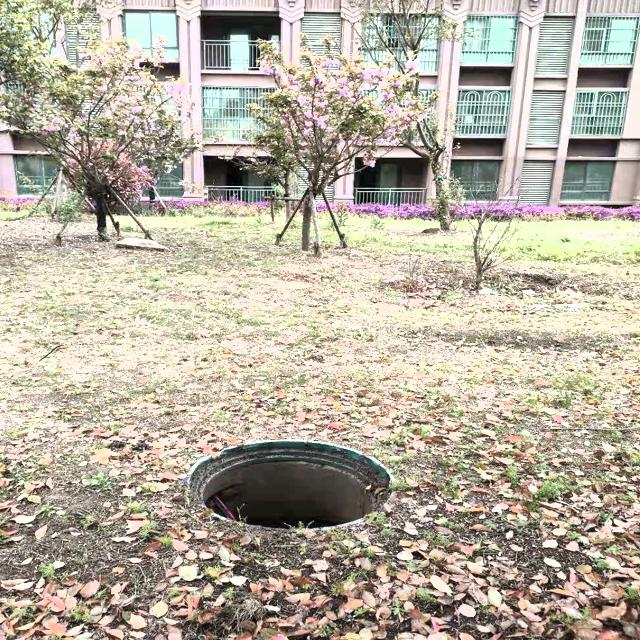lose: (188, 440, 391, 532)
